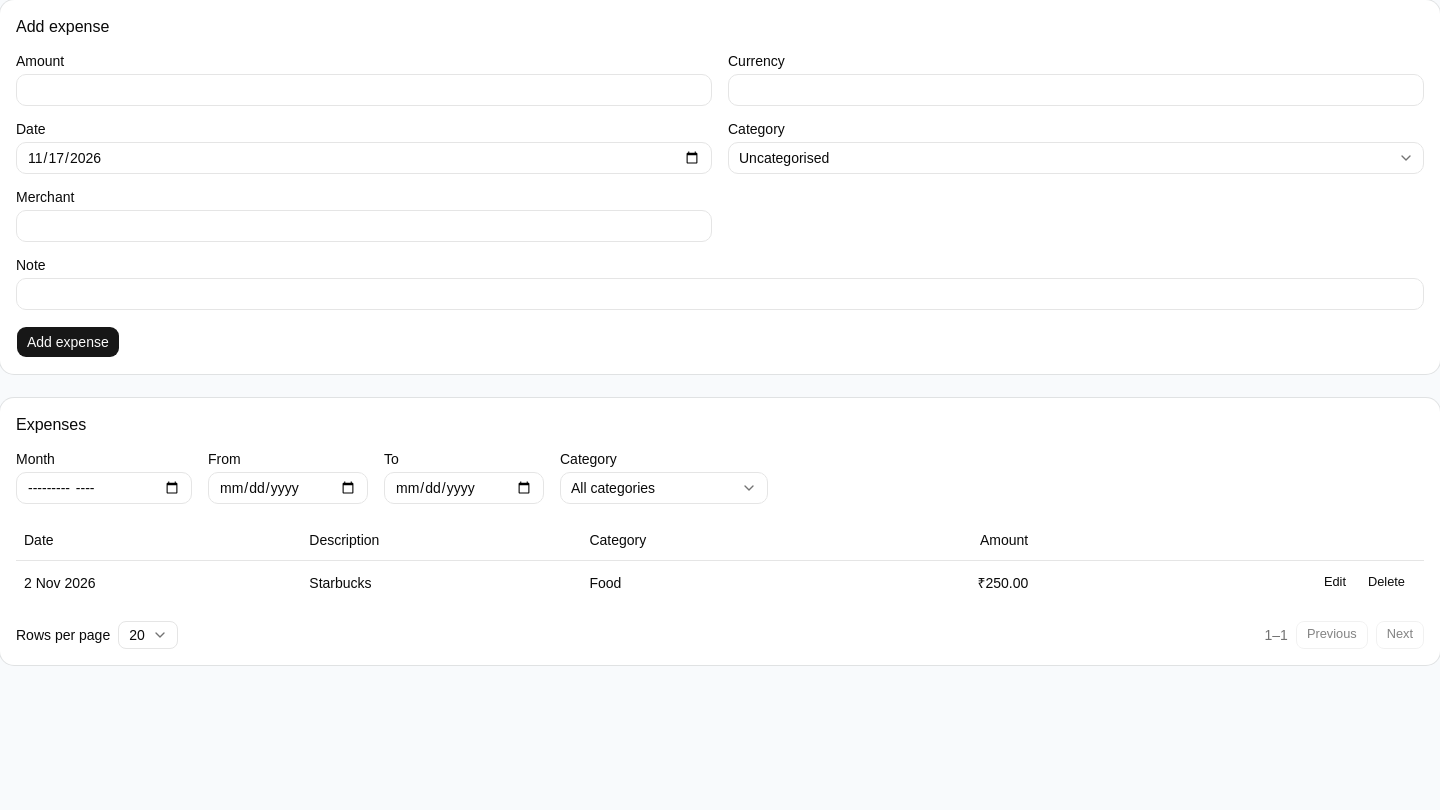
it: confirming deletes the expense, closes the dialog and it leaves the list
Click the button with aria-label "Delete Starbucks" at point(1386, 582), box [1357,568,1416,596]
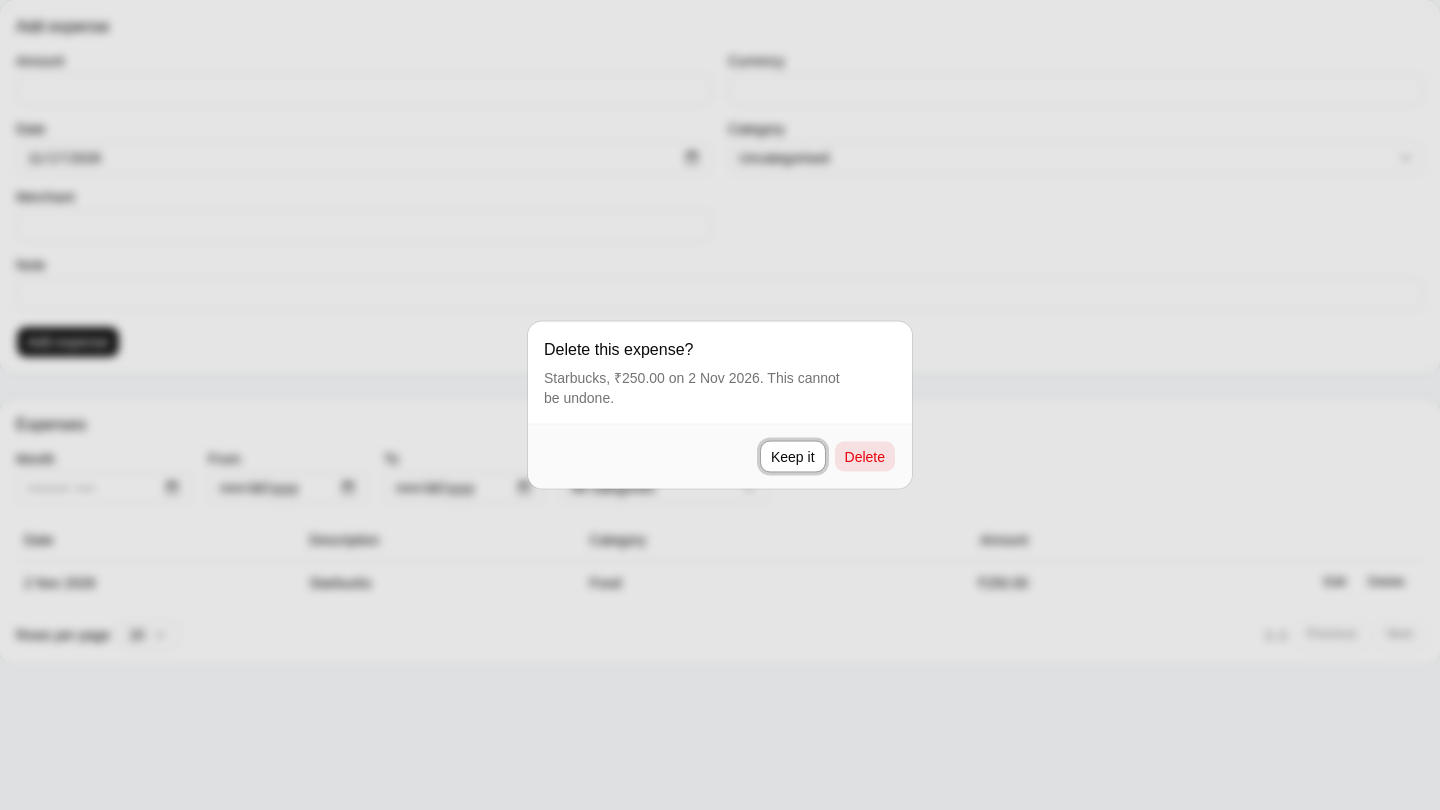
Click the button "Delete" at point(865, 456), box [834,440,896,472]
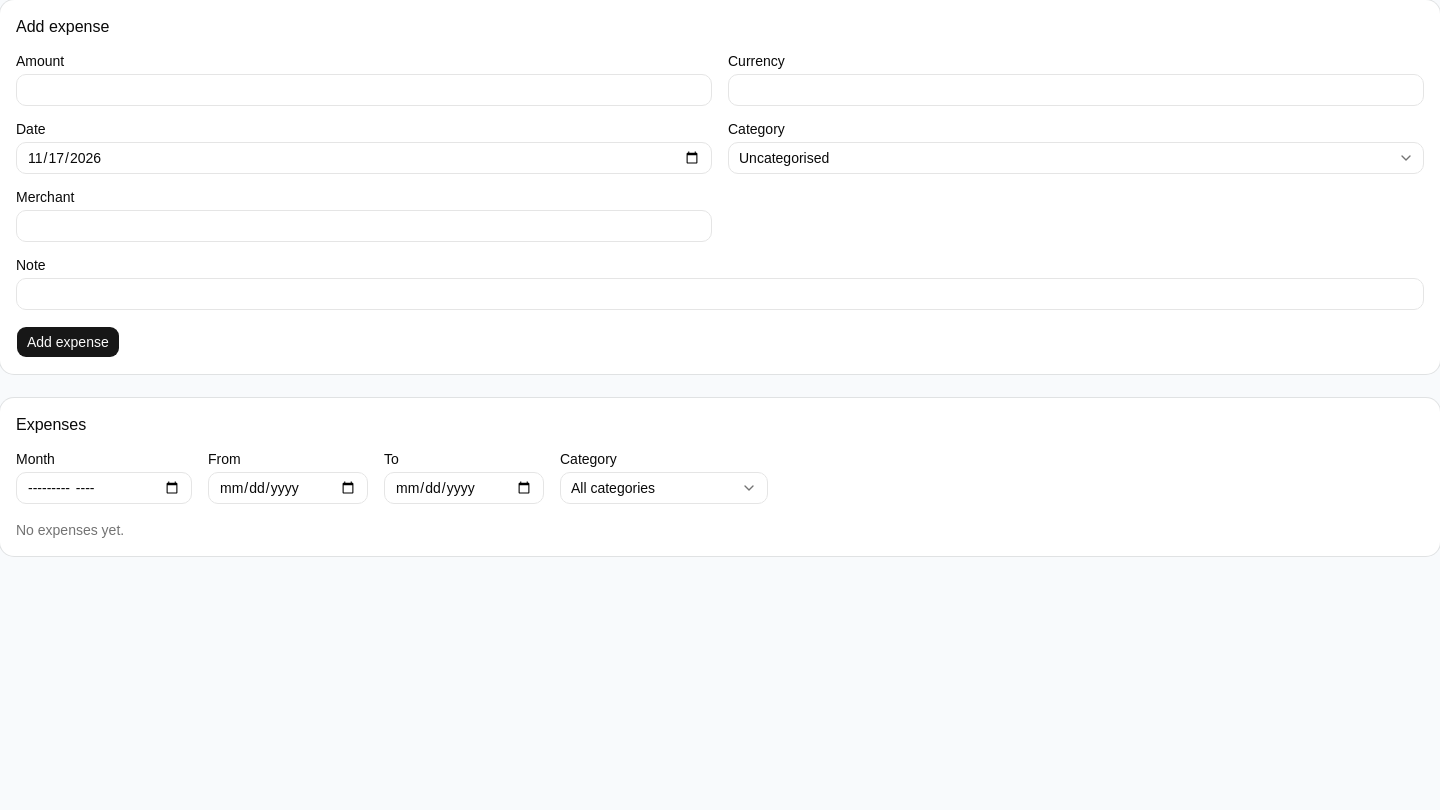
Check: the text "No expenses yet." is shown, box [16,522,124,538]
Check: the dialog is gone
